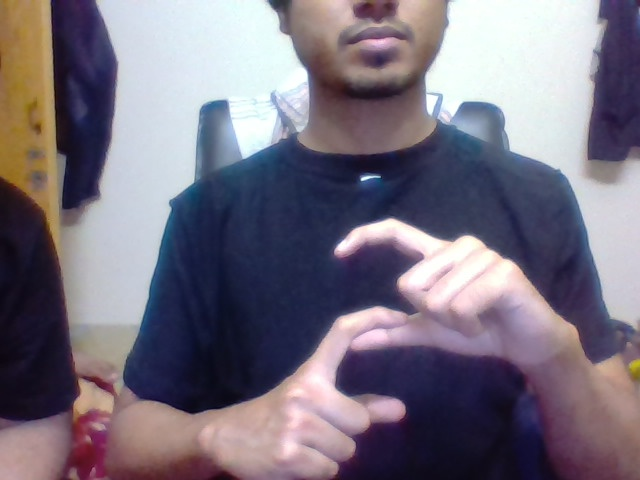S: (325, 214, 414, 427)
